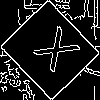X: (25, 25, 82, 81)
